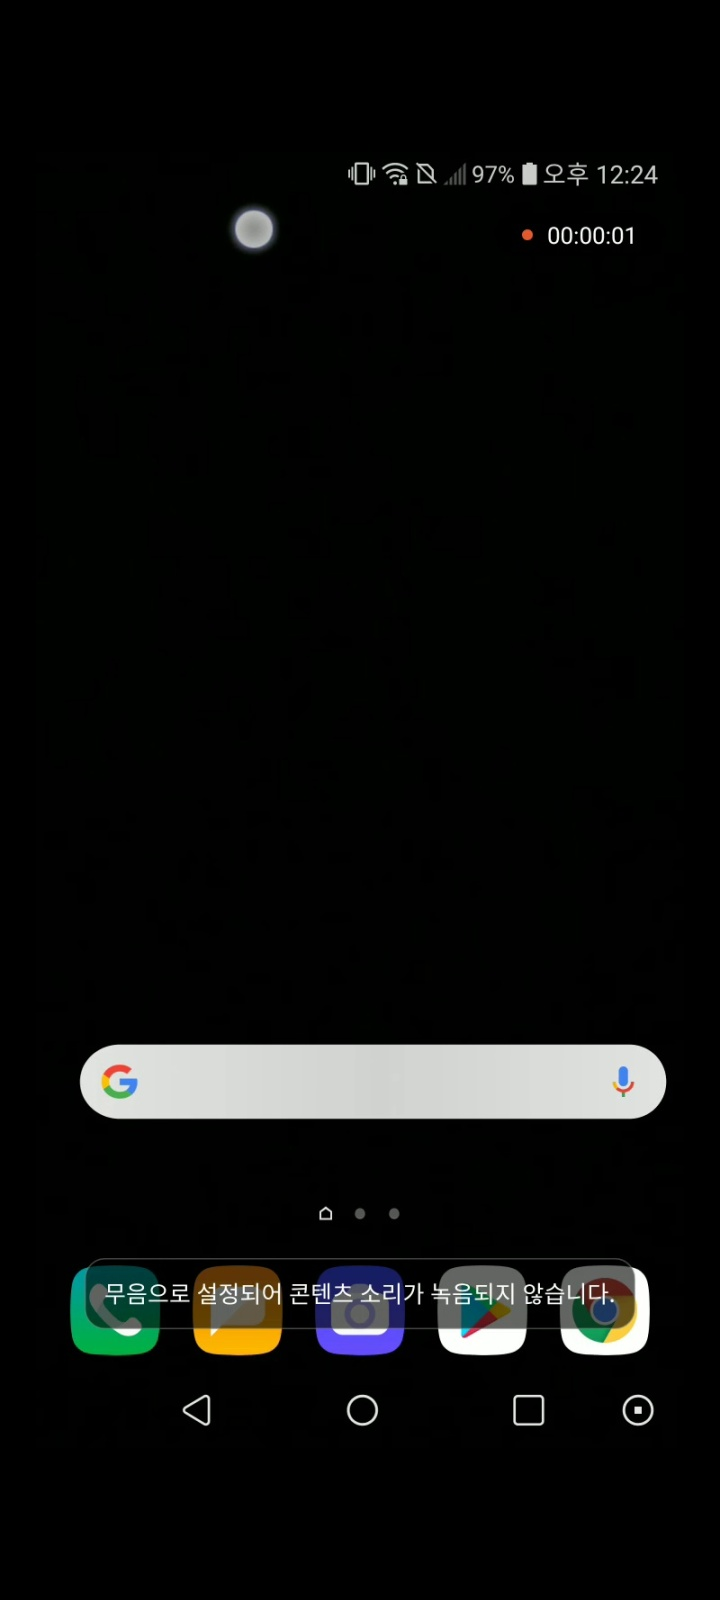Cursor: (232, 208, 277, 254)
